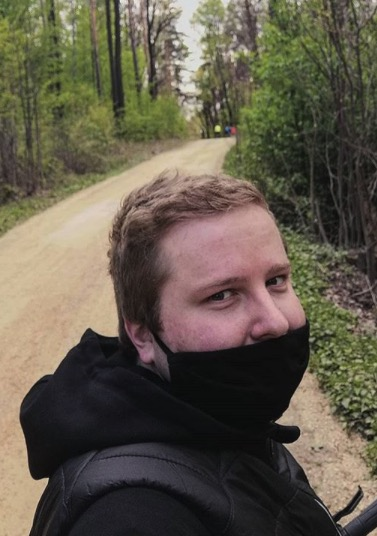mask_weared_incorrect: (150, 235, 317, 399)
